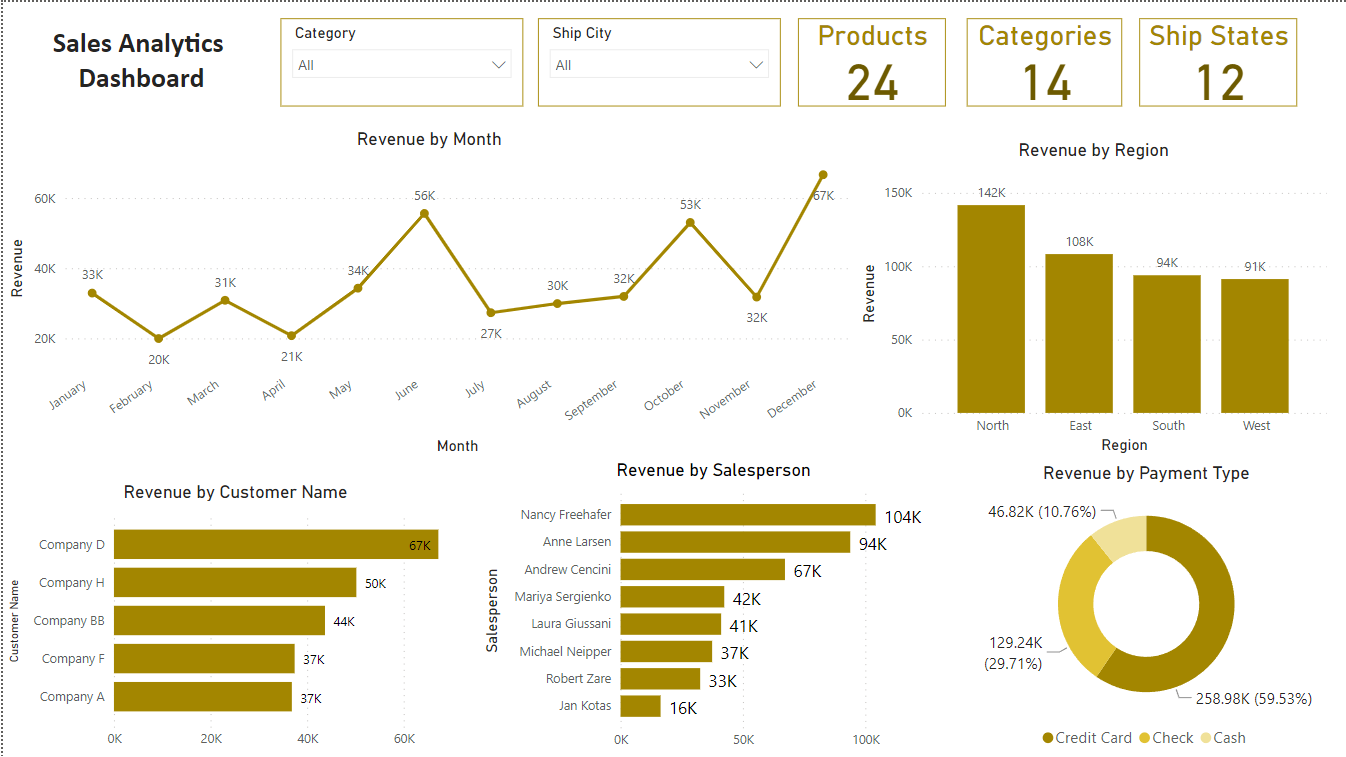

The page's visual inventory and layout, read from the dashboard file:
{"tool":"powerbi","page":{"name":"Page 1","canvas":[1280,720],"ordinal":0},"visuals":[{"type":"textbox","box":[0,0,263.5,111.1],"z":0},{"type":"donutChart","title":"Revenue by Payment Type","fields":{"Y":["orders.Revenue"],"Category":["orders.Payment Type"]},"box":[897.2,437.6,382.6,282.4],"z":1000},{"type":"clusteredBarChart","title":"Revenue by Salesperson","fields":{"Y":["orders.Revenue"],"Category":["orders.Salesperson"]},"box":[452.3,435.2,448.6,284.8],"z":2000},{"type":"barChart","title":"Revenue by Customer Name","fields":{"Y":["orders.Revenue"],"Category":["orders.Customer Name"]},"box":[0,456,442.5,264],"z":3000},{"type":"clusteredColumnChart","title":"Revenue by Region","fields":{"Y":["orders.Revenue"],"Category":["orders.Region"]},"box":[811.7,130.8,453.5,304.4],"z":4000},{"type":"lineChart","title":"Revenue by Month","fields":{"Y":["orders.Revenue"],"Category":["orders.Order Date.Variation.Date Hierarchy.Month"]},"box":[0,119.8,811.7,315.4],"z":5000},{"type":"slicer","fields":{"Values":["orders.Category"]},"box":[264,15.9,231,84.3],"z":6000},{"type":"slicer","fields":{"Values":["orders.Ship City"]},"box":[509.7,15.9,231,84.3],"z":7000},{"type":"card","title":"Products","fields":{"Values":["orders.Product Name"]},"box":[756.7,15.9,140.6,84.3],"z":7001},{"type":"card","title":"Categories","fields":{"Values":["orders.Category"]},"box":[918,15.9,147.9,84.3],"z":7002},{"type":"card","title":"Ship States","fields":{"Values":["orders.Ship State"]},"box":[1081.8,15.9,150.4,84.3],"z":7003}]}

Visuals, with their boxes in screenshot pixels (x1, y1, x2, y2), scaled from the page's 1280x720 canvas onto the 1346x757 screenshot:
textbox: (left=0, top=0, right=277, bottom=117)
"Revenue by Payment Type" donutChart: (left=943, top=460, right=1345, bottom=756)
"Revenue by Salesperson" clusteredBarChart: (left=476, top=458, right=947, bottom=756)
"Revenue by Customer Name" barChart: (left=0, top=479, right=465, bottom=756)
"Revenue by Region" clusteredColumnChart: (left=854, top=138, right=1330, bottom=458)
"Revenue by Month" lineChart: (left=0, top=126, right=854, bottom=458)
slicer - orders.Category: (left=278, top=17, right=521, bottom=105)
slicer - orders.Ship City: (left=536, top=17, right=779, bottom=105)
"Products" card: (left=796, top=17, right=944, bottom=105)
"Categories" card: (left=965, top=17, right=1121, bottom=105)
"Ship States" card: (left=1138, top=17, right=1296, bottom=105)
